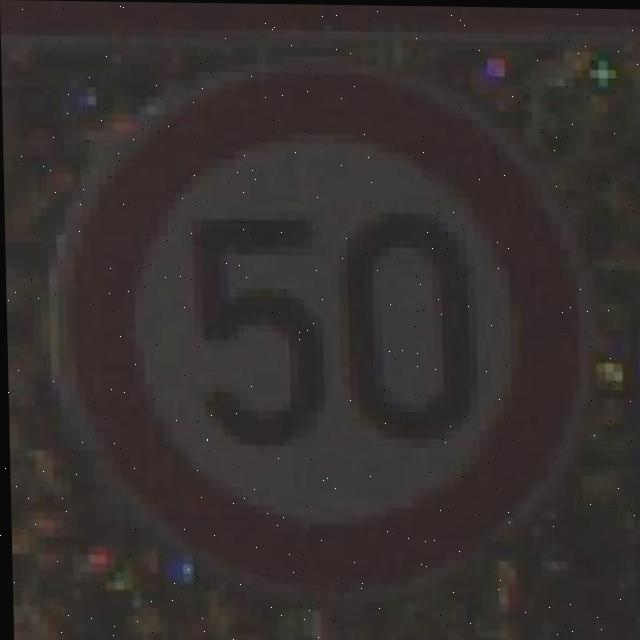Speed limit 50: (47, 60, 594, 594)
